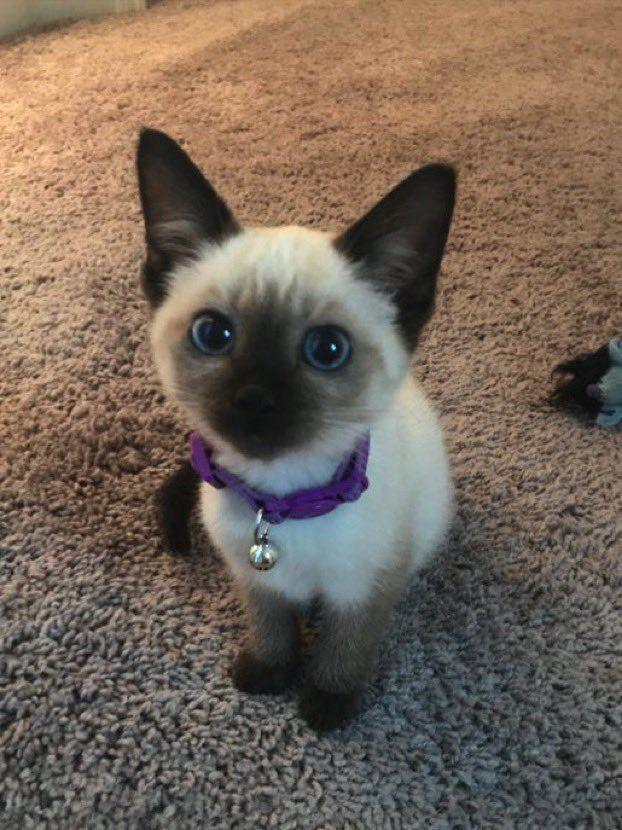rabbit: (138, 130, 454, 728)
